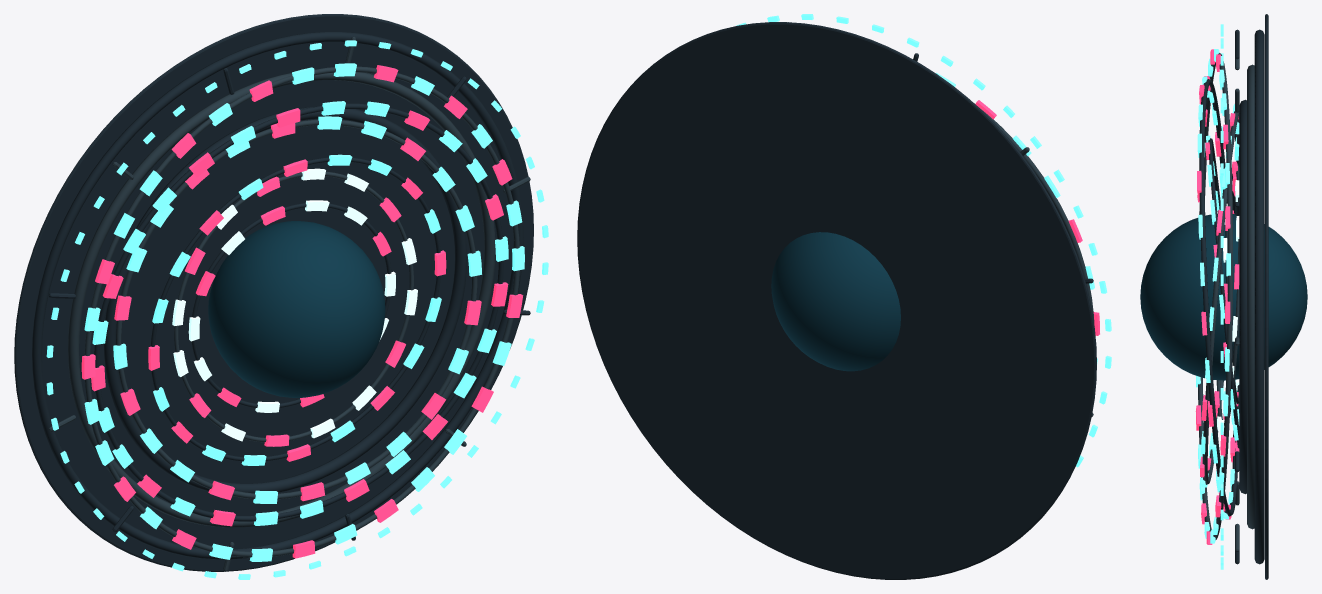
File: travis-core.glb
3 renders of one model, left to right at view 1: azimuth 30°, elevation 25°; view 2: azimuth 150°, elevation 25°; view 3: azimuth 270°, elevation 25°, orthographic. The views are drawn at different scales.
Visible parts, largest first — view 1: BackPlate, CoreGlassSphere, Chassis_0, Chassis_1, Chassis_2, RotorCyan_5, RotorCyan_4, RotorBase_5, RotorCyan_3, RotorRed_5, RotorBase_4, RotorRed_4 (+12 smaller); view 2: BackPlate, CoreGlassSphere, OuterTicks, RotorBase_5; view 3: CoreGlassSphere, Chassis_0, Chassis_1, Chassis_2, RotorBase_5, RotorBase_4, BackPlate, RotorBase_3, RotorCyan_5, RotorCyan_4, RotorRed_5, RotorBase_2 (+9 smaller).
Part boxes in pixels (bbox=[...]): BackPlate: bbox=[14, 14, 533, 571]; CoreGlassSphere: bbox=[208, 221, 385, 397]; Chassis_0: bbox=[32, 32, 523, 559]; Chassis_1: bbox=[68, 72, 495, 527]; Chassis_2: bbox=[103, 107, 466, 493]; RotorCyan_5: bbox=[84, 63, 524, 561]; RotorCyan_4: bbox=[92, 101, 508, 525]; RotorBase_5: bbox=[84, 66, 519, 557]; RotorCyan_3: bbox=[113, 116, 481, 503]; RotorRed_5: bbox=[81, 65, 523, 558]; RotorBase_4: bbox=[94, 103, 503, 521]; RotorRed_4: bbox=[91, 108, 508, 526]; BackPlate: bbox=[577, 22, 1096, 579]; CoreGlassSphere: bbox=[771, 232, 900, 371]; OuterTicks: bbox=[736, 14, 1111, 467]; RotorBase_5: bbox=[974, 103, 1094, 323]; CoreGlassSphere: bbox=[1140, 213, 1307, 380]; Chassis_0: bbox=[1254, 29, 1264, 564]; Chassis_1: bbox=[1247, 64, 1254, 529]; Chassis_2: bbox=[1239, 99, 1246, 494]; RotorBase_5: bbox=[1198, 53, 1232, 539]; RotorBase_4: bbox=[1199, 79, 1237, 516]; BackPlate: bbox=[1265, 14, 1268, 579]; RotorBase_3: bbox=[1202, 111, 1239, 484]; RotorCyan_5: bbox=[1196, 49, 1230, 543]; RotorCyan_4: bbox=[1197, 76, 1234, 519]; RotorRed_5: bbox=[1195, 49, 1230, 544]; RotorBase_2: bbox=[1208, 138, 1239, 448].
Size of the model in its own units: 6.36 by 6.36 by 1.88.
